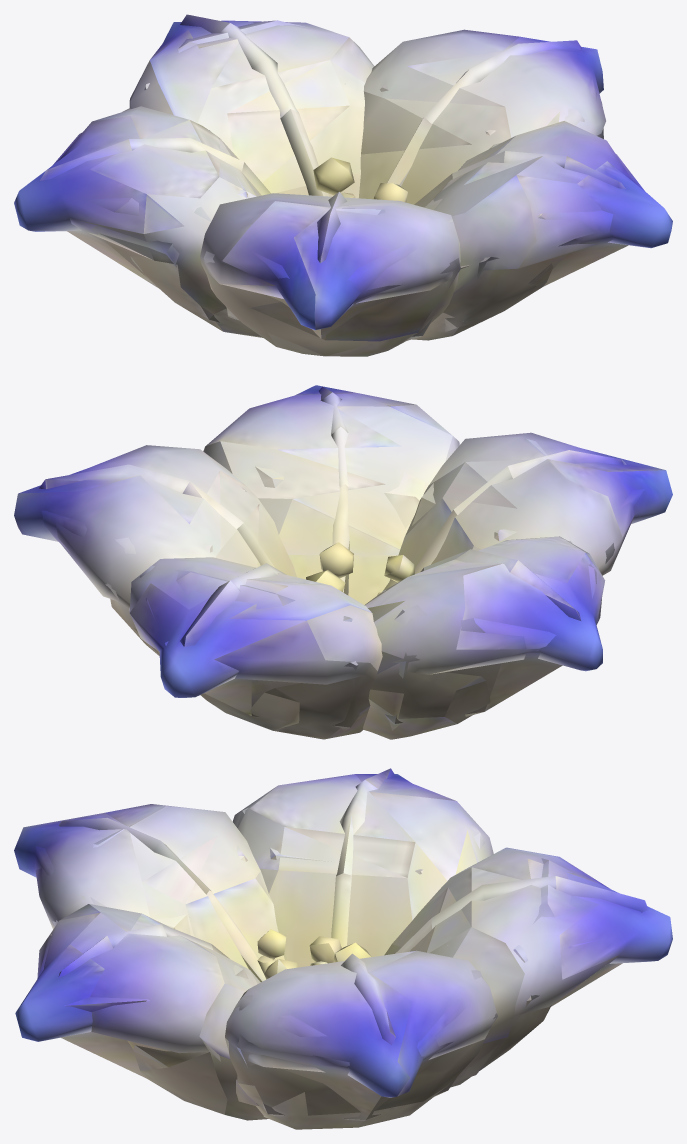
File: moonbloom.glb
The picture shows the model from 3 angles, top to bottom: view 1: azimuth 30°, elevation 25°; view 2: azimuth 150°, elevation 25°; view 3: azimuth 270°, elevation 25°; orthographic projection. The views are drawn at different scales.
Bounding box in the file's own units: 1 × 0.375 × 0.9648.
1 material, 1 textured.
